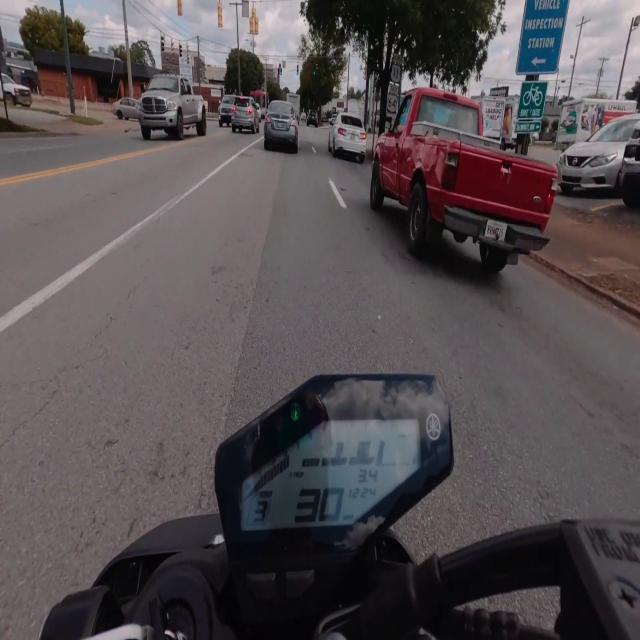car: (370, 76, 560, 278), (133, 69, 208, 139), (329, 114, 366, 163), (264, 101, 298, 152), (232, 96, 260, 133), (218, 94, 236, 127), (307, 111, 318, 127)
motorcycle: (40, 376, 639, 639)
